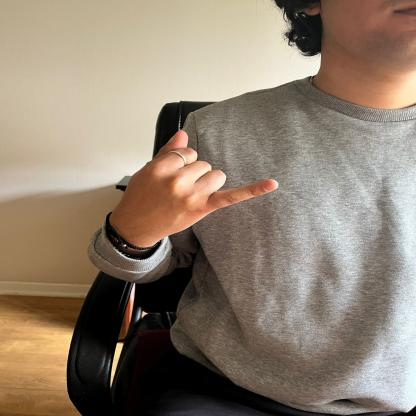J: (119, 127, 280, 238)
